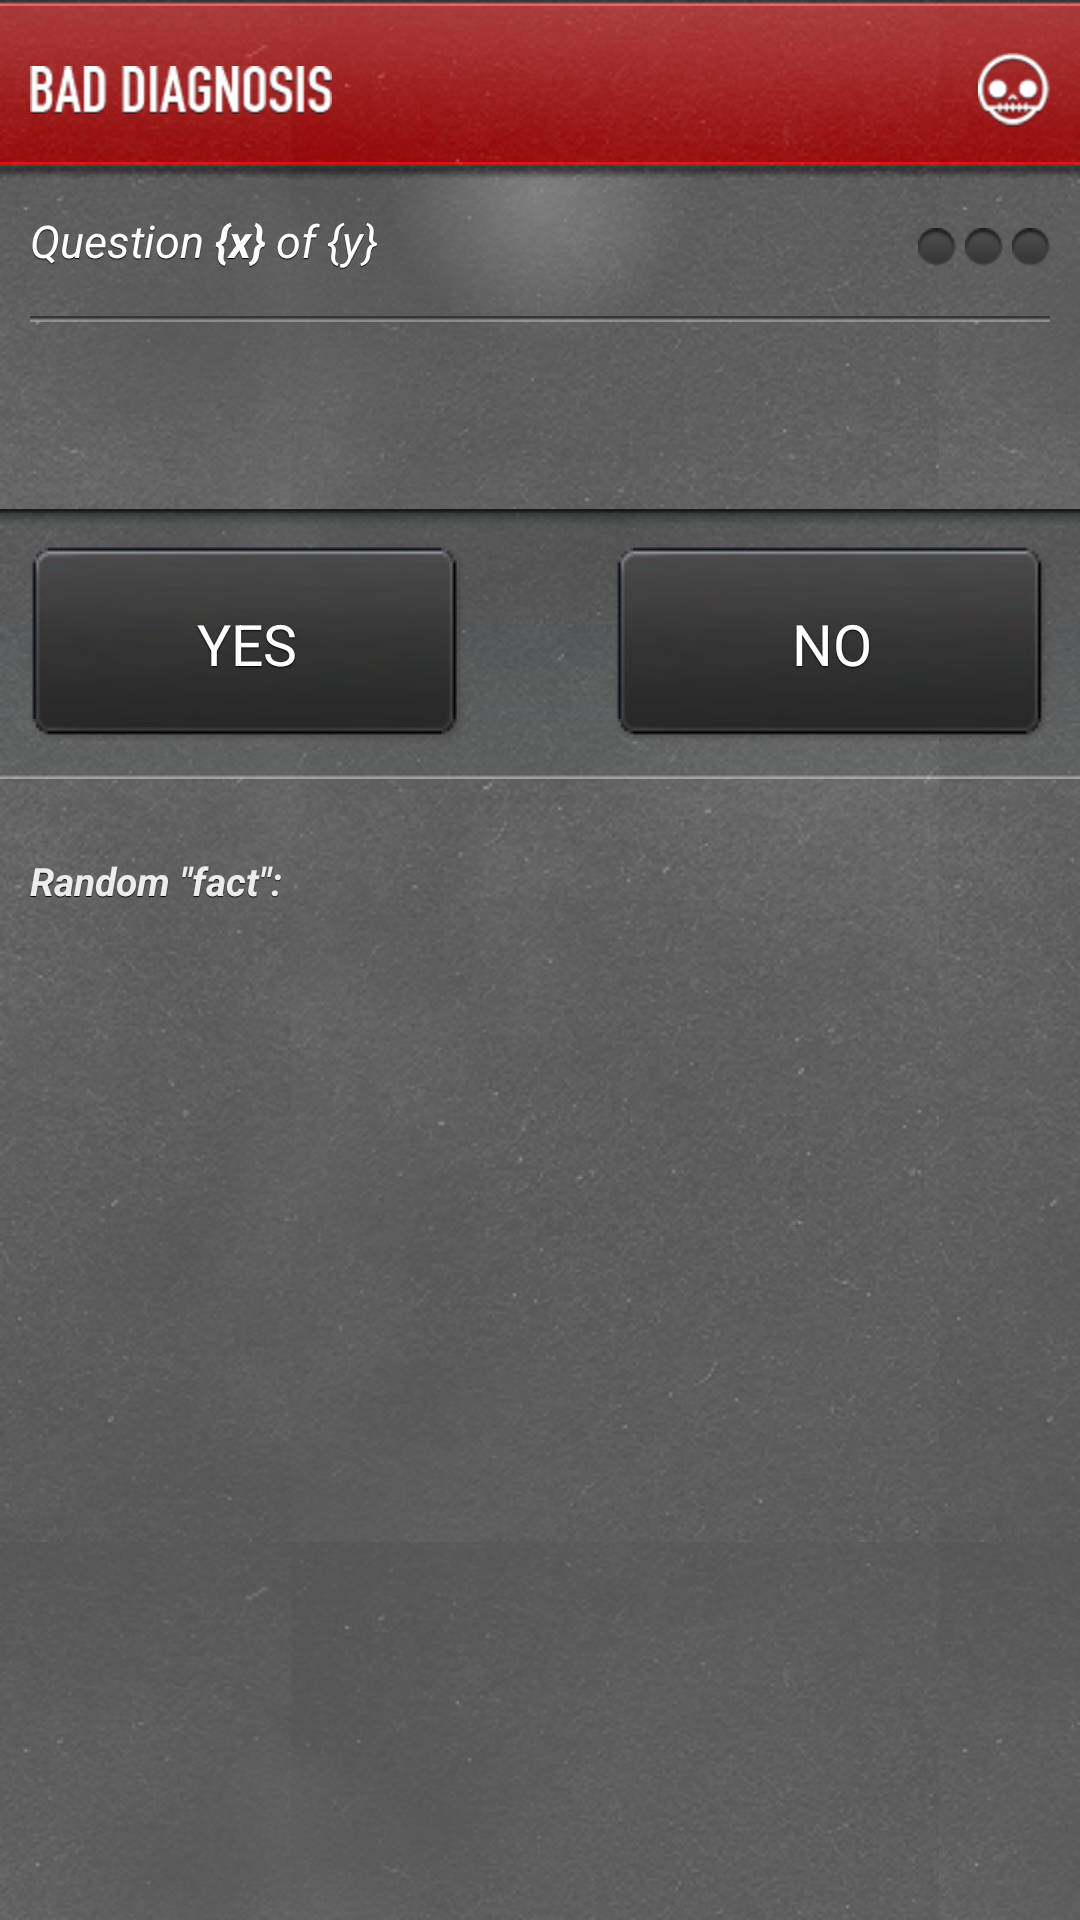

Named icons in this screenshot (1080*1920) and their centers, [x,y]:
skull: [1014,90]
